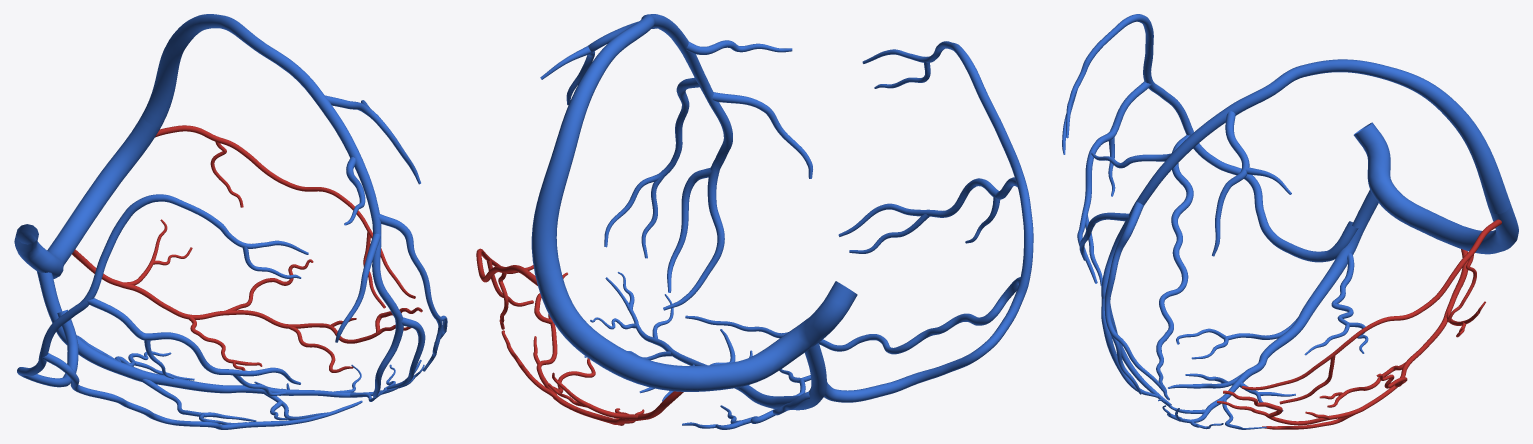
File: circulatorio-coronary-sinus.glb
3 renders of one model, left to right at view 1: azimuth 30°, elevation 25°; view 2: azimuth 150°, elevation 25°; view 3: azimuth 270°, elevation 25°, orthographic. The views are drawn at different scales.
Visible parts, largest first — view 1: Great cardiac vein, ????????, Middle cardiac vein, Coronary sinus, Inferior vein of left ventricle (//Posterior ''), Inferior vein of left ventricle; view 2: Great cardiac vein, ????????, Coronary sinus, Middle cardiac vein, Inferior vein of left ventricle (//Posterior ''), Inferior vein of left ventricle; view 3: Great cardiac vein, ????????, Middle cardiac vein, Coronary sinus, Inferior vein of left ventricle (//Posterior ''), Inferior vein of left ventricle.
Part boxes in pixels (x1,y1,x2,y2): Great cardiac vein: (142, 14, 447, 397); ????????: (17, 194, 362, 429); Middle cardiac vein: (37, 271, 424, 424); Coronary sinus: (14, 115, 161, 278); Inferior vein of left ventricle (//Posterior ''): (72, 219, 411, 372); Inferior vein of left ventricle: (155, 125, 422, 332); Great cardiac vein: (531, 14, 812, 310); ????????: (685, 41, 1033, 402); Coronary sinus: (535, 268, 857, 391); Middle cardiac vein: (584, 272, 826, 429); Inferior vein of left ventricle (//Posterior ''): (501, 272, 683, 425); Inferior vein of left ventricle: (476, 248, 553, 329); Great cardiac vein: (1079, 59, 1510, 406); ????????: (1062, 14, 1358, 400); Middle cardiac vein: (1158, 190, 1378, 429); Coronary sinus: (1353, 122, 1518, 254); Inferior vein of left ventricle (//Posterior ''): (1217, 249, 1485, 429); Inferior vein of left ventricle: (1223, 219, 1501, 418).
Size of the model in its own units: 0.1012 by 0.0821 by 0.0991.
